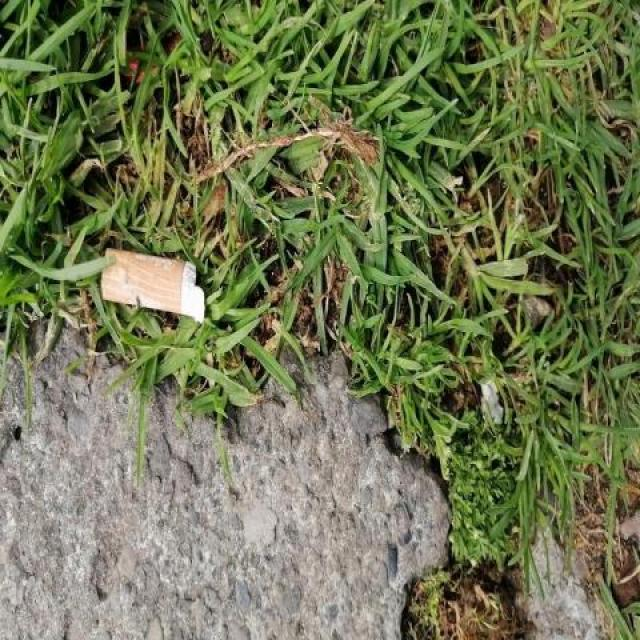non-organic waste: (101, 246, 206, 326)
